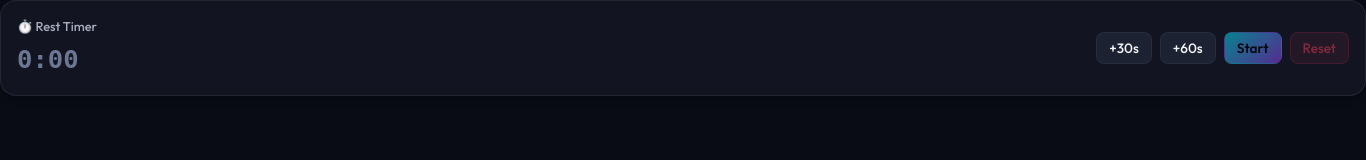
Scenario: RestTimer Component › should reset timer when clicking Reset button
Step 1. Click the button "+60s" → (1188, 48), box [1160, 32, 1216, 64]
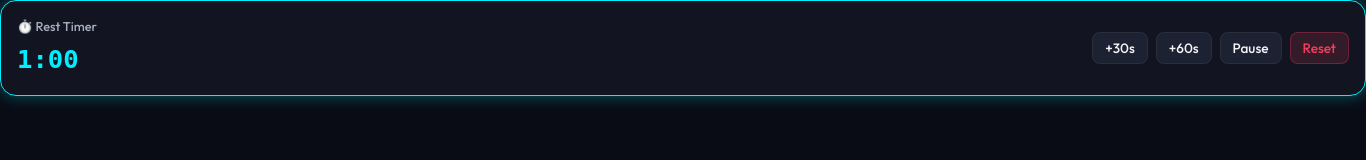
Result: the text "1:00" is shown at [17, 44, 79, 74]
Step 2. Click the button "Reset" → (1319, 48), box [1290, 32, 1349, 64]
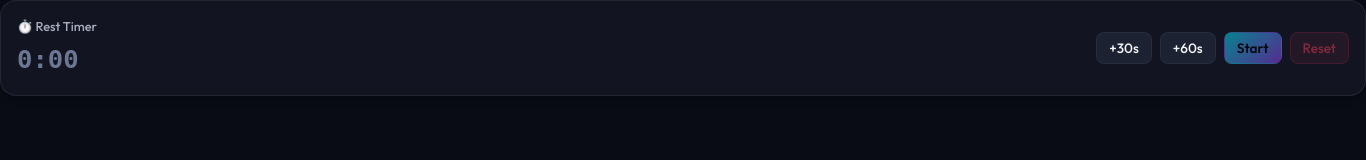
Result: the text "0:00" is shown at [17, 44, 79, 74]
